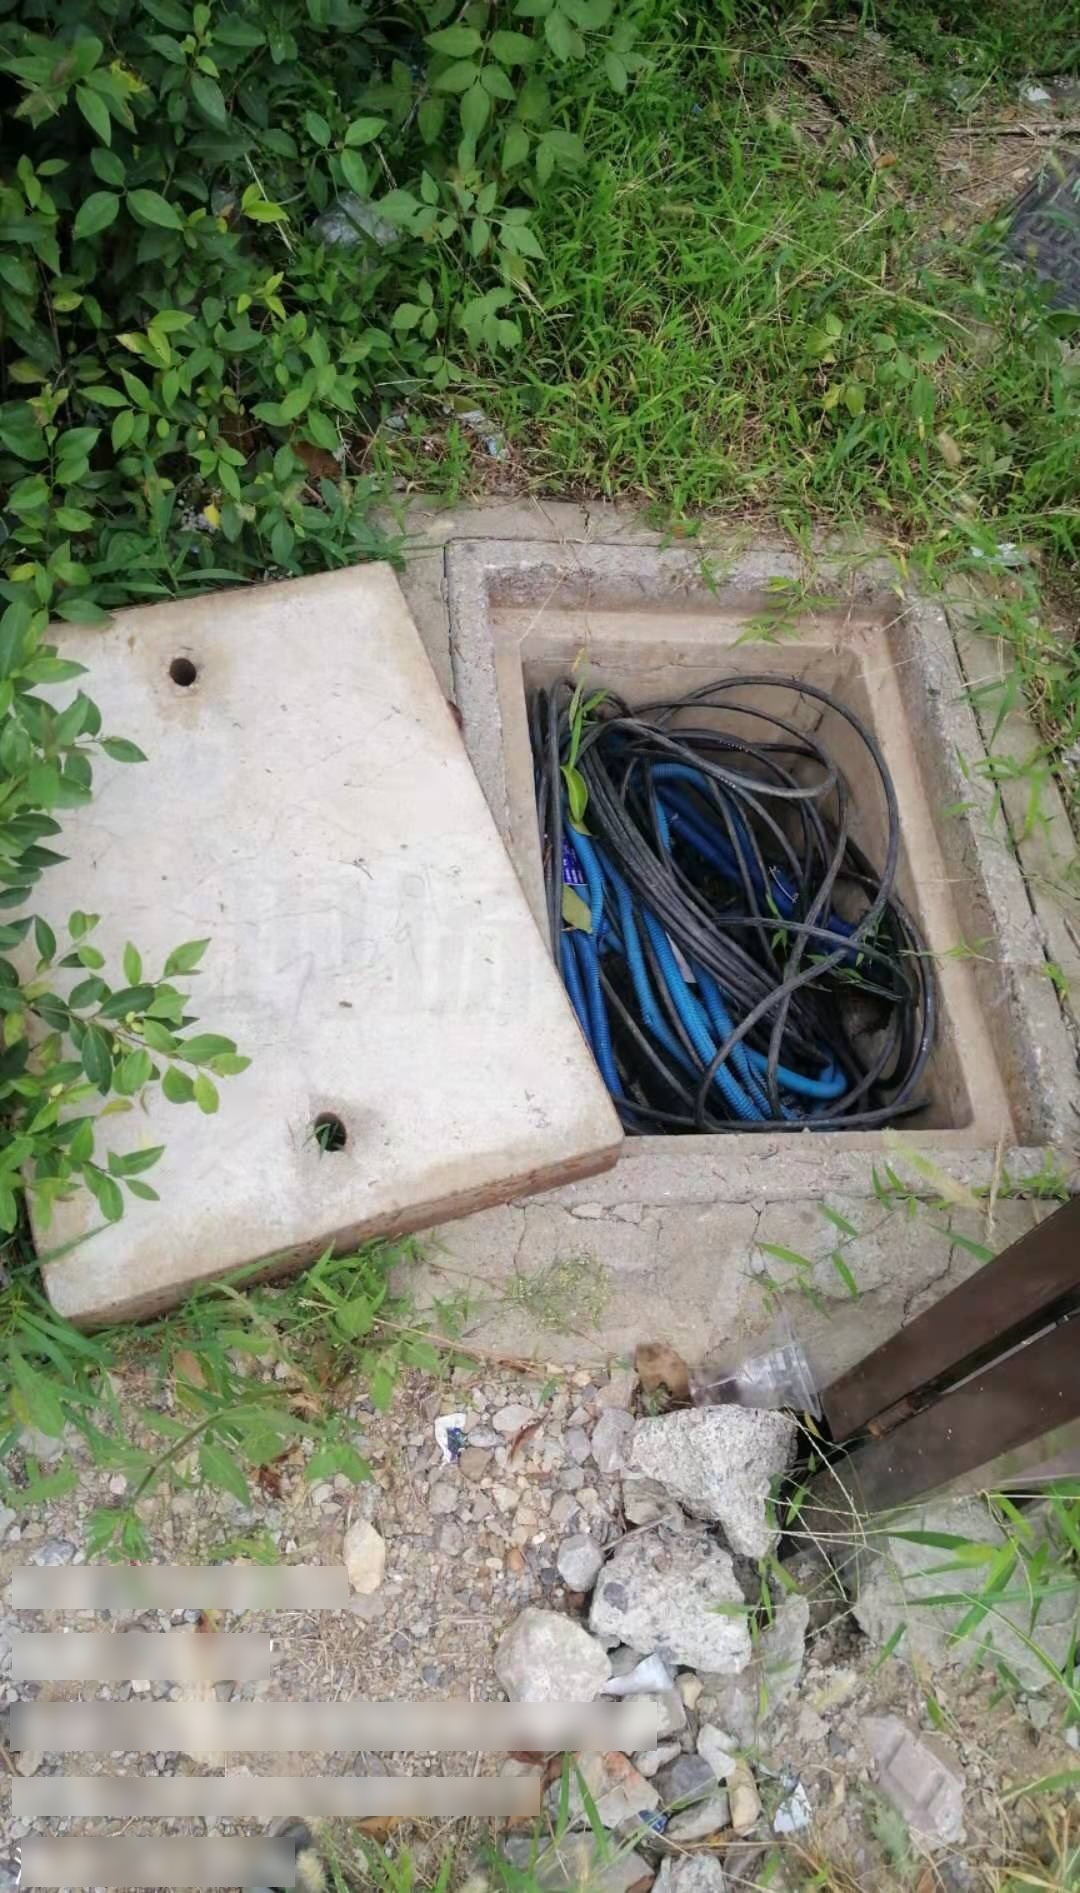well: (36, 523, 1080, 1353)
